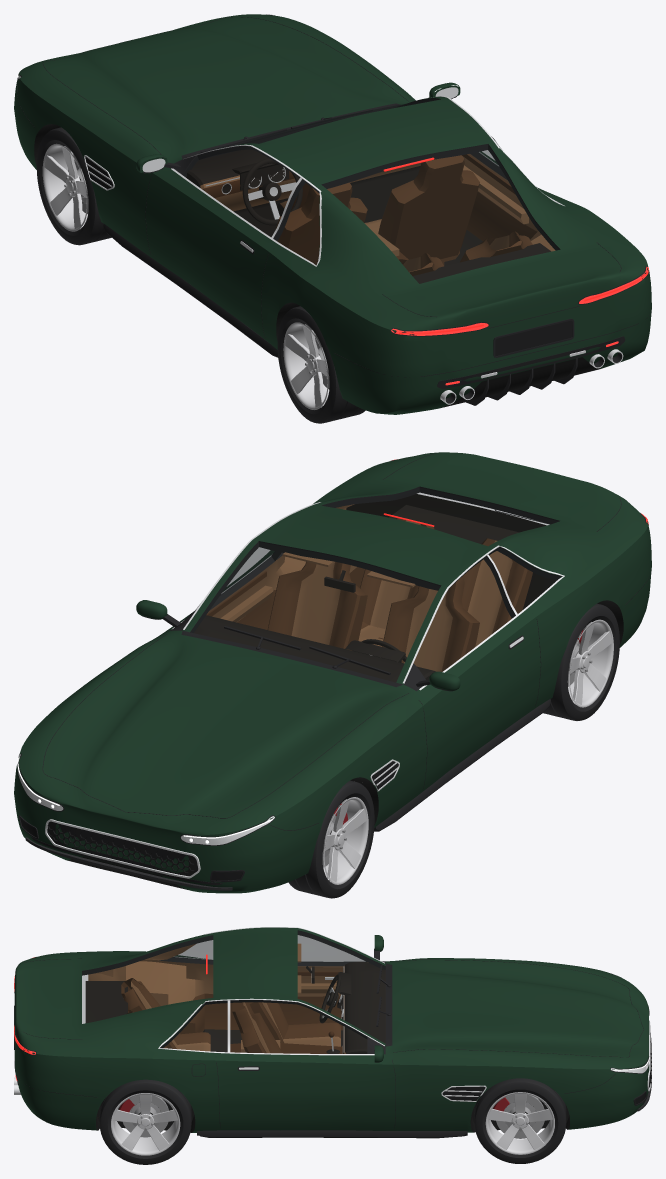
Rendered from castellan_gt.glb.
The picture shows the model from 3 angles, top to bottom: view 1: azimuth 30°, elevation 25°; view 2: azimuth 150°, elevation 25°; view 3: azimuth 270°, elevation 25°; orthographic projection. The views are drawn at different scales.
Parts seen in each view (by area): view 1: Body, Glass, Interior, Wheel_RL, Wheel_FL, SteeringWheel, Lights_Tail; view 2: Body, Glass, Interior, Wheel_FL, Wheel_RL; view 3: Body, Glass, Interior, Wheel_FR, Wheel_RR, SteeringWheel.
Boxes of the visible parts, x1=… form: Body: x1=14, y1=14, x2=651, y2=414; Glass: x1=183, y1=99, x2=559, y2=283; Interior: x1=186, y1=149, x2=555, y2=283; Wheel_RL: x1=277, y1=306, x2=365, y2=423; Wheel_FL: x1=36, y1=127, x2=111, y2=245; SteeringWheel: x1=242, y1=158, x2=302, y2=225; Lights_Tail: x1=391, y1=267, x2=648, y2=385; Body: x1=14, y1=452, x2=651, y2=893; Glass: x1=191, y1=488, x2=560, y2=682; Interior: x1=194, y1=493, x2=556, y2=682; Wheel_FL: x1=288, y1=780, x2=374, y2=898; Wheel_RL: x1=543, y1=603, x2=619, y2=720; Body: x1=14, y1=927, x2=651, y2=1138; Glass: x1=82, y1=931, x2=384, y2=1053; Interior: x1=85, y1=943, x2=385, y2=1117; Wheel_FR: x1=474, y1=1078, x2=566, y2=1163; Wheel_RR: x1=99, y1=1079, x2=191, y2=1164; SteeringWheel: x1=319, y1=974, x2=340, y2=1023.
Bounding box in the file's own units: 2.18 × 1.28 × 4.85.
